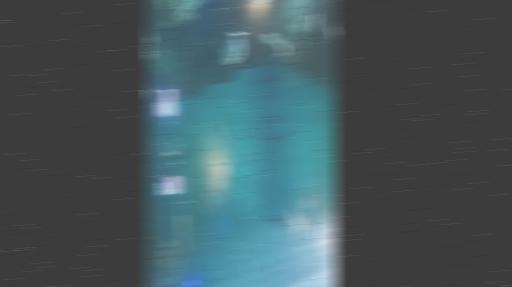Fish: (225, 31, 244, 64), (262, 33, 287, 56), (287, 208, 302, 232), (318, 231, 331, 255), (244, 259, 257, 279), (303, 189, 312, 209), (259, 127, 268, 143), (308, 17, 317, 32), (298, 222, 307, 235), (245, 259, 252, 275), (258, 249, 265, 264), (330, 24, 336, 40), (251, 266, 257, 279), (144, 89, 151, 100), (219, 119, 228, 127), (225, 242, 232, 250), (227, 112, 236, 117), (220, 126, 226, 132), (236, 238, 242, 244), (243, 135, 249, 141), (228, 135, 235, 140), (234, 240, 238, 247), (229, 241, 233, 248), (249, 153, 253, 159), (222, 142, 226, 148), (236, 253, 240, 258), (224, 133, 228, 138), (239, 127, 242, 133), (238, 120, 240, 125)
